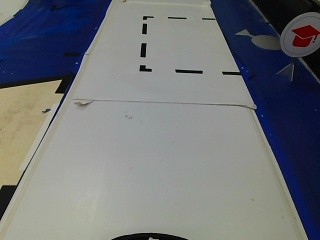school: (282, 14, 318, 58)
